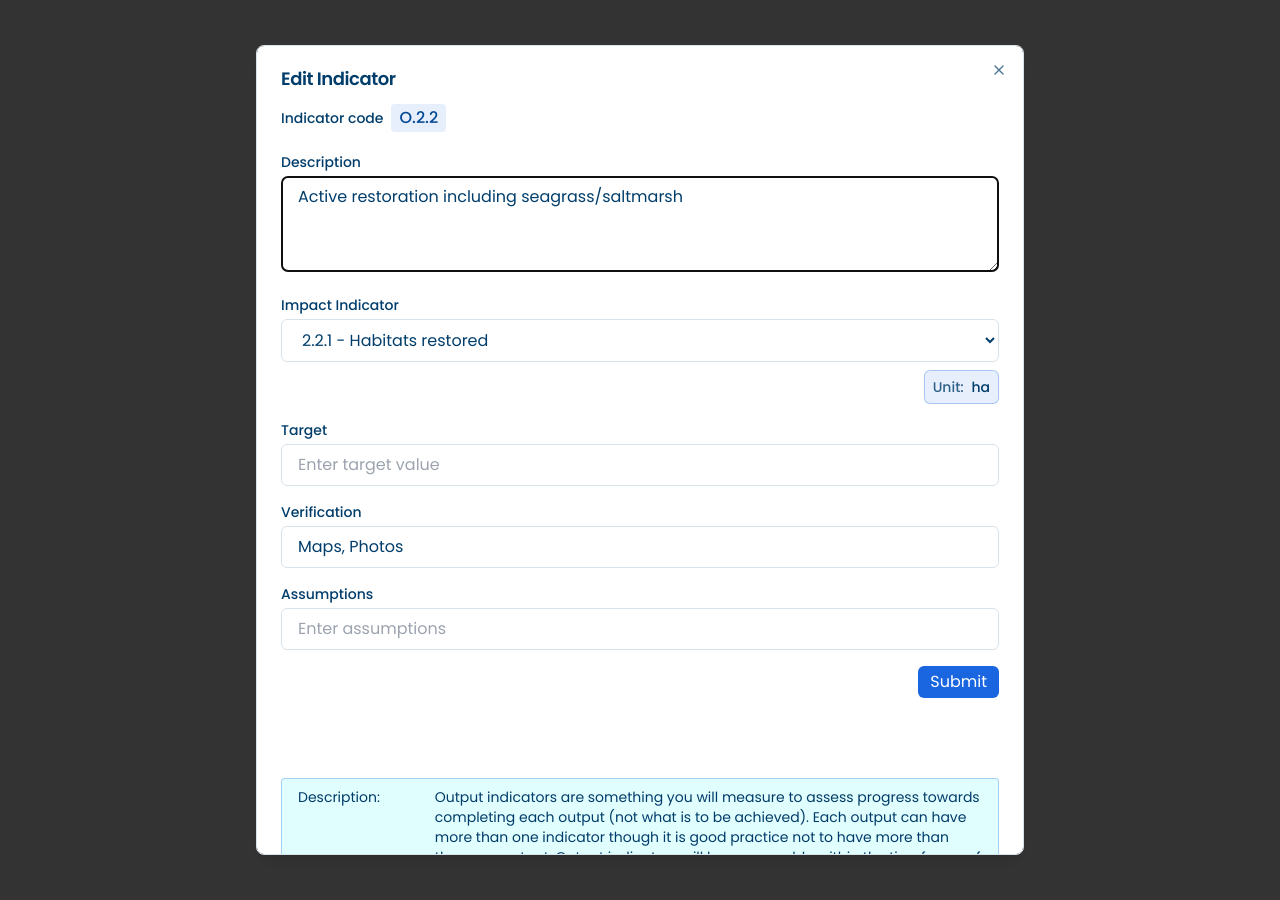
Test: OutputMeasurableForm surfaces save errors instead of failing silently
Click the button "Submit" at (959, 682), box [918,666,999,698]
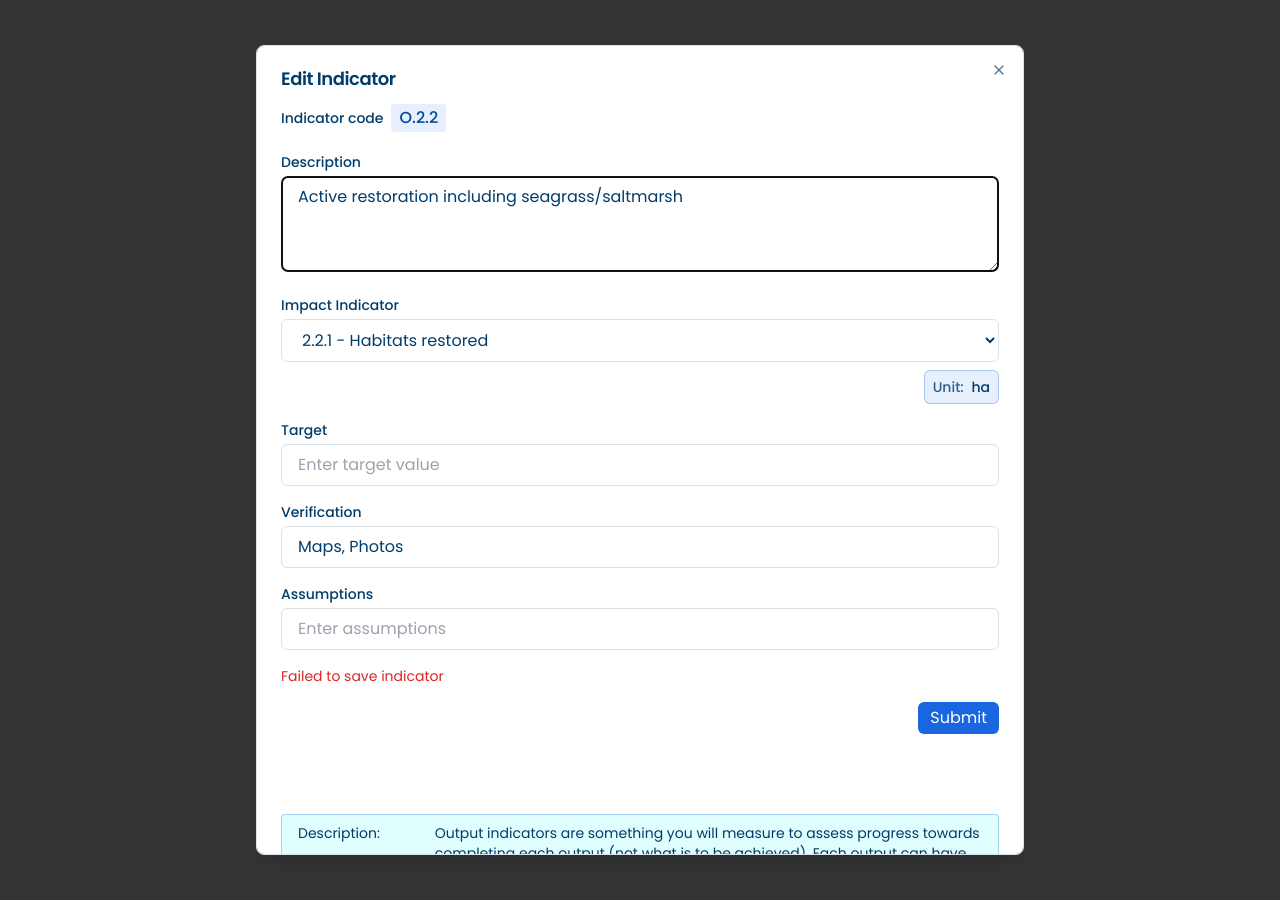
Result: the message reads "Failed to save indicator" at [281,666,444,686]
